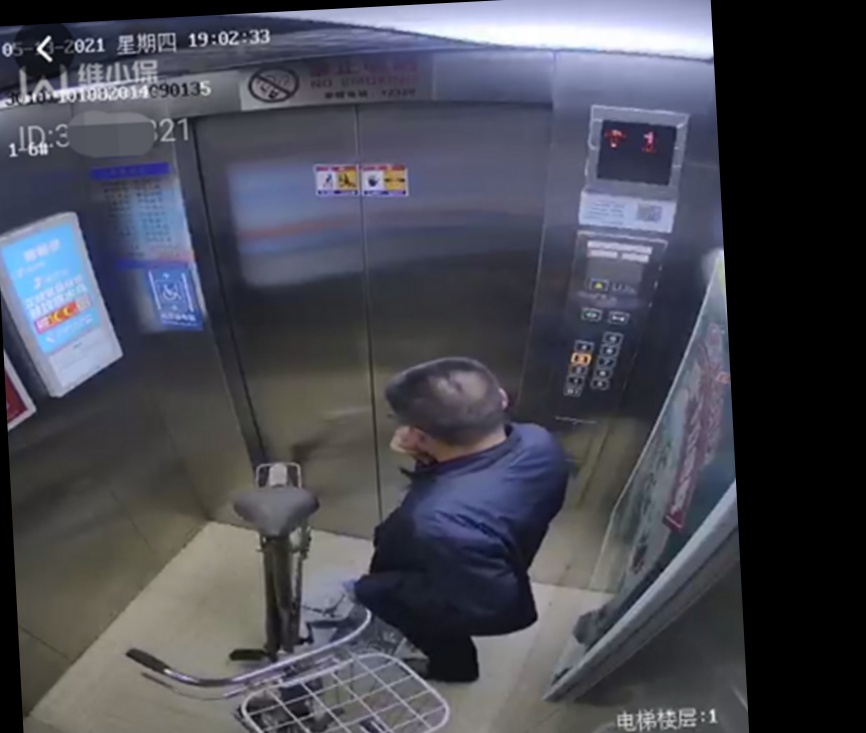person: (362, 357, 549, 680)
